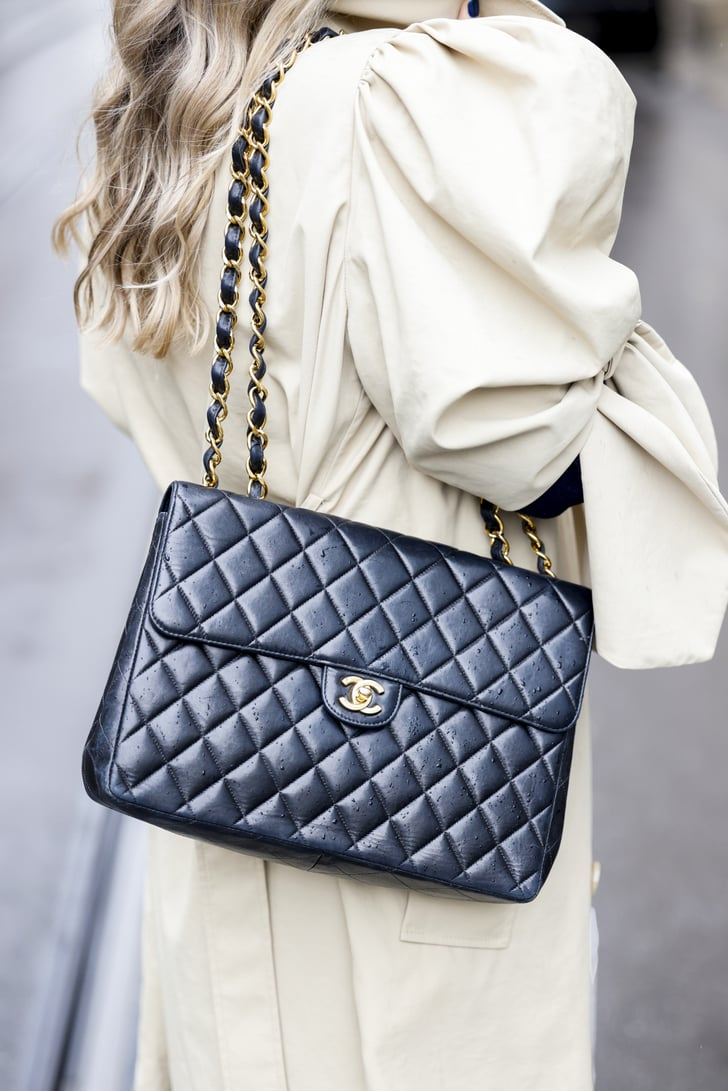channel: (129, 471, 591, 923), (220, 115, 289, 492), (171, 599, 300, 786), (316, 669, 426, 765)
